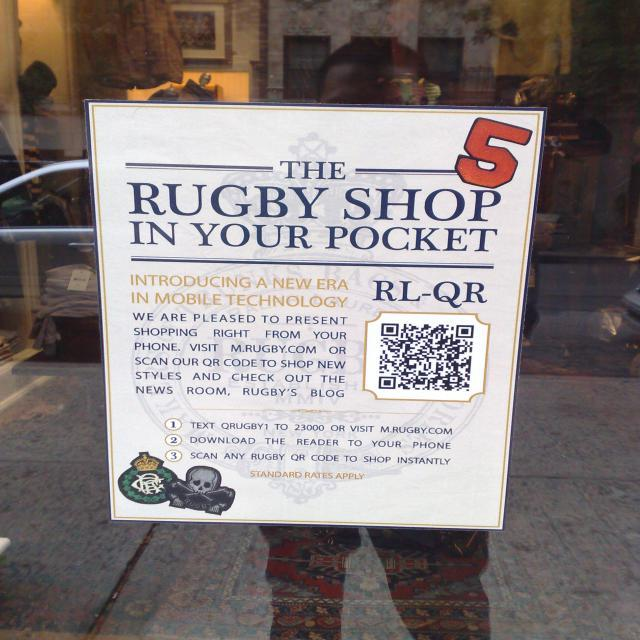qrcode: (380, 325, 475, 392)
